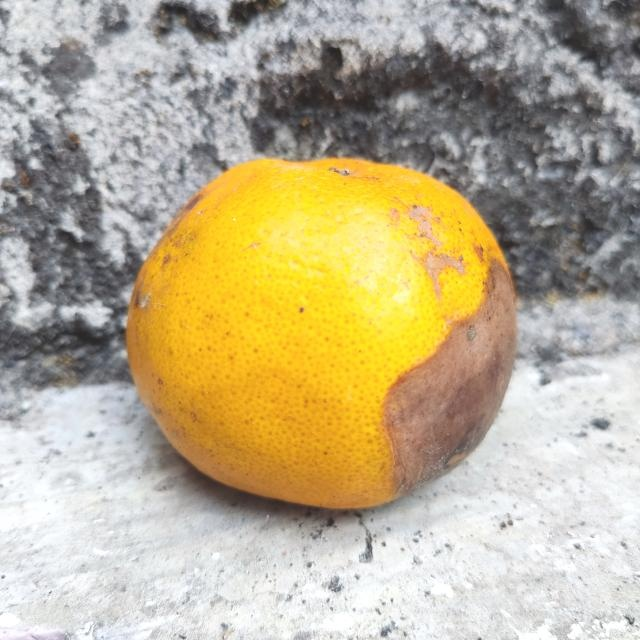agrume: (125, 158, 521, 511)
